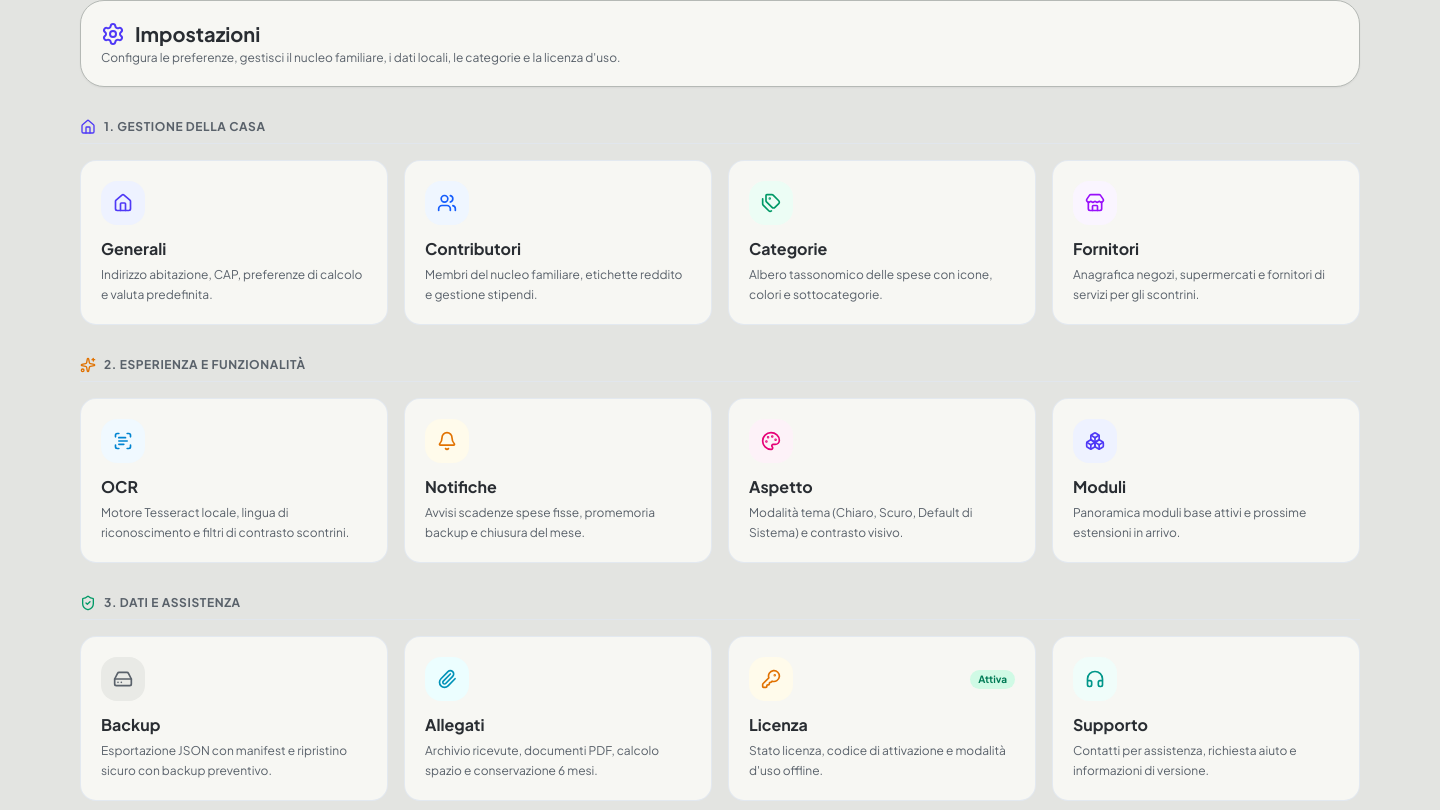
Test case: Sottofase 2.3.B.3 - Modulo UI Supporto e Contatti (/settings/contact) › 21-23: Route /settings/contact e navigazione dalla pagina Impostazioni
This screenshot has width=1440, height=810.
expect the text "Supporto" is shown: met, box x1=1073 y1=713 x2=1148 y2=737
// Naviga alla route /settings/contact
Step 1. Click the link "Supporto" → (1095, 679), box x1=1052 y1=636 x2=1360 y2=801
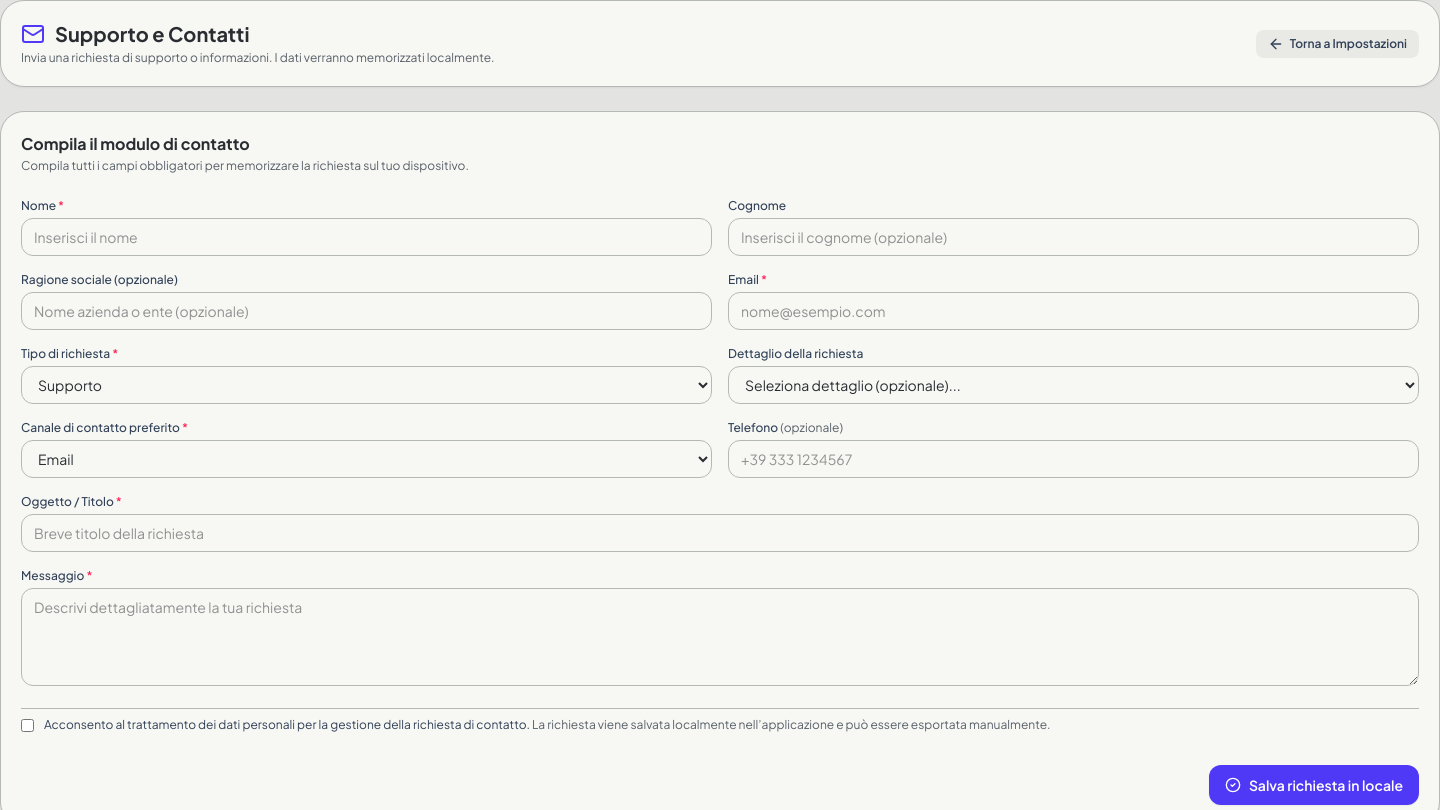
expect the heading "Supporto e Contatti" is shown: met, box x1=55 y1=21 x2=249 y2=46
expect the text box labelled "Messaggio *" is shown: met, box x1=21 y1=588 x2=1419 y2=686
